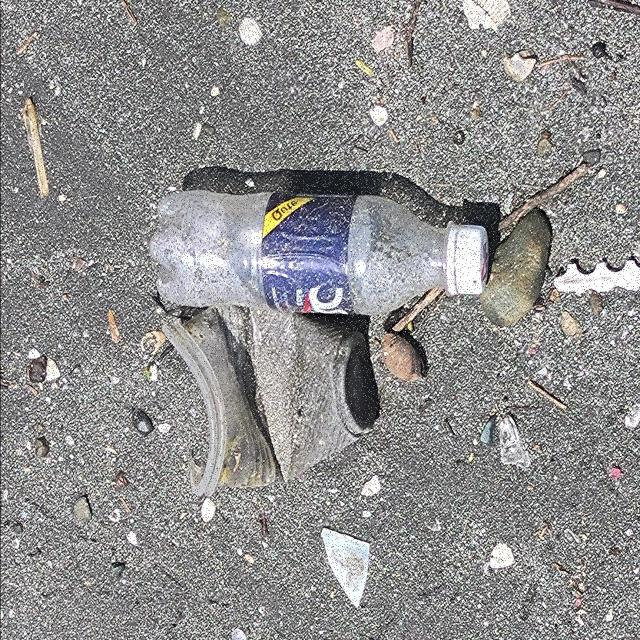plastic_waste: (162, 308, 382, 498), (149, 194, 489, 316)
